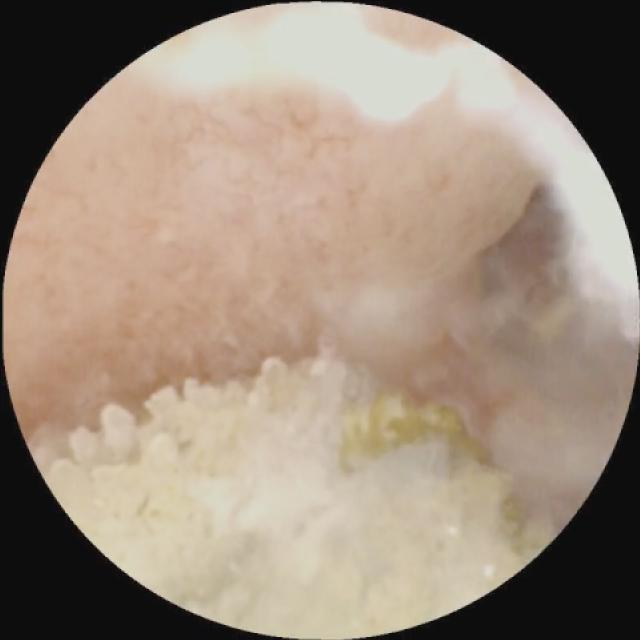stone: (39, 358, 540, 622)
tissue: (16, 10, 632, 513)
